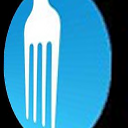Fork: (21, 7, 66, 127)
